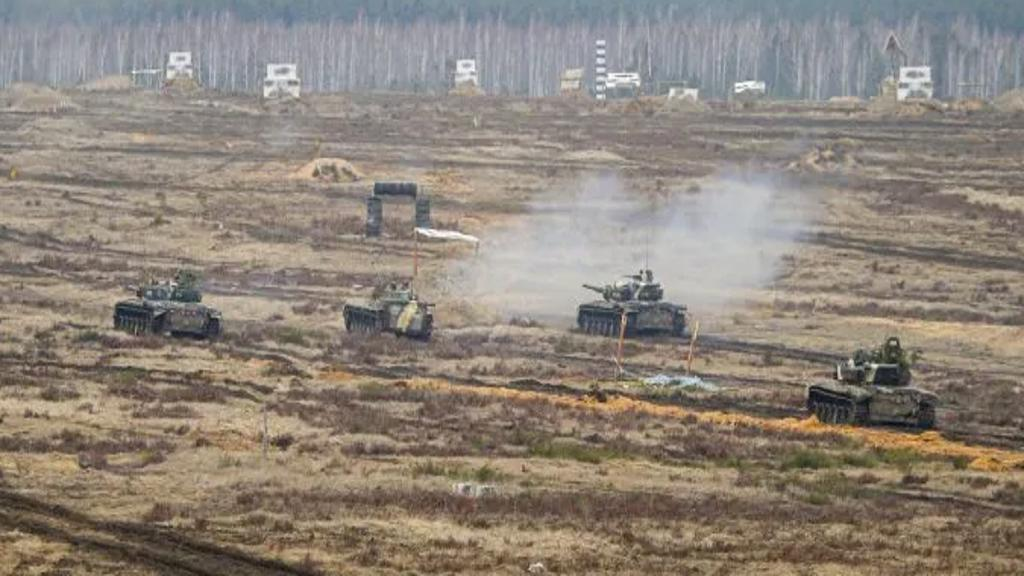APC-IFV: (337, 276, 435, 342)
TANK: (797, 347, 940, 431), (106, 268, 224, 339), (573, 267, 689, 339)
